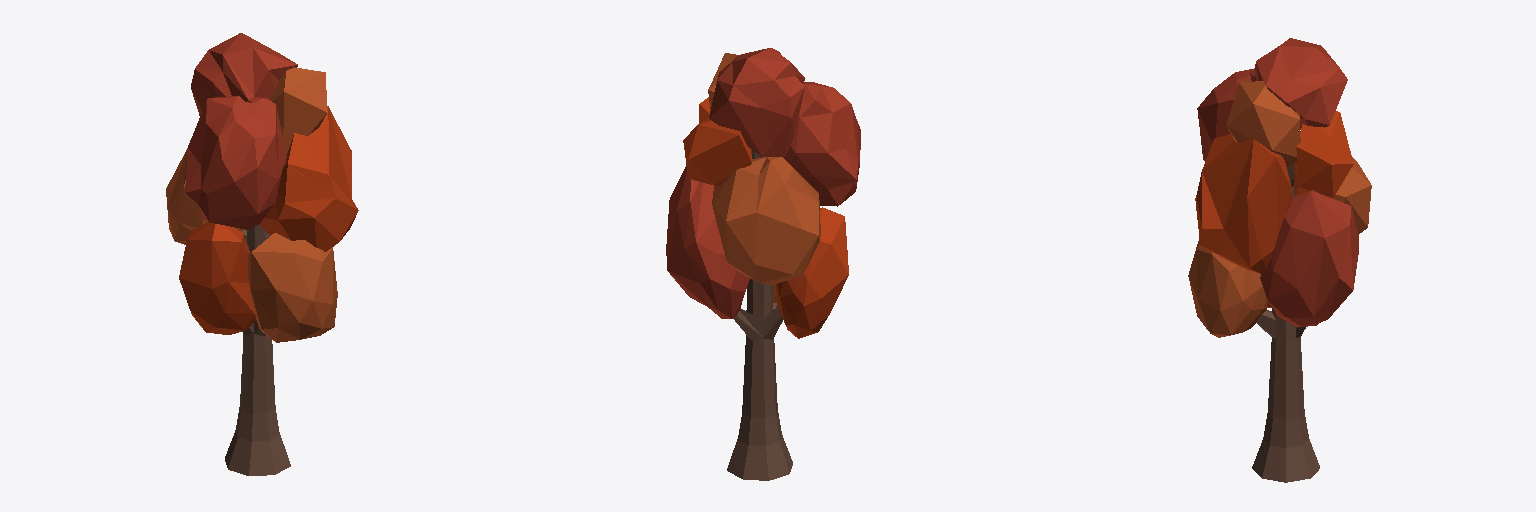
3 views of the same model, side by side, from view 1: azimuth 30°, elevation 25°; view 2: azimuth 150°, elevation 25°; view 3: azimuth 270°, elevation 25° (orthographic).
Visible parts, largest first — view 1: Tall_deciduous_tree_red_leaves; view 2: Tall_deciduous_tree_red_leaves; view 3: Tall_deciduous_tree_red_leaves.
Part boxes in pixels (x1,y1,x2,y2): Tall_deciduous_tree_red_leaves: (166,33,358,475); Tall_deciduous_tree_red_leaves: (666,48,860,480); Tall_deciduous_tree_red_leaves: (1188,38,1371,482).
Bounding box in the file's own units: 1.11 × 2.79 × 1.11.
Materials: 1 (1 with a texture image).